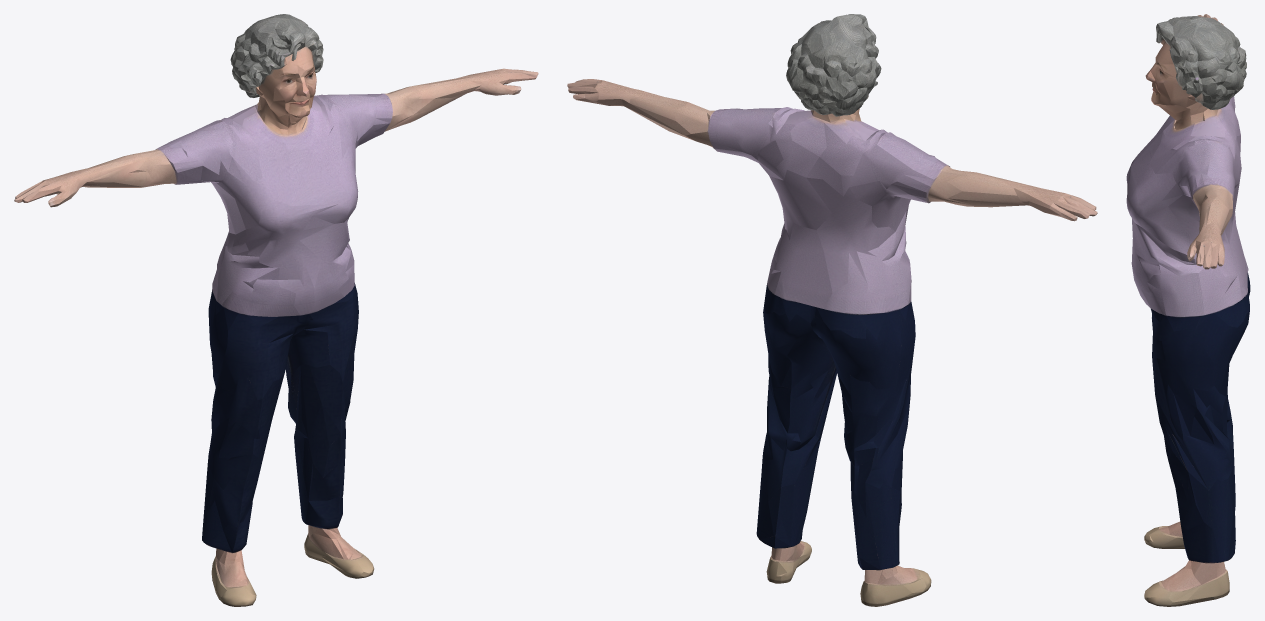
Rendered from image3d.glb.
3 renders of one model, left to right at view 1: azimuth 30°, elevation 25°; view 2: azimuth 150°, elevation 25°; view 3: azimuth 270°, elevation 25°, orthographic. The views are drawn at different scales.
Bounding box in the file's own units: 1.86 × 1.9 × 0.386.
Materials: 1 (1 with a texture image).
